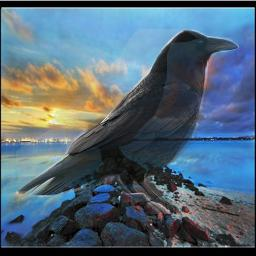Crow: (16, 29, 239, 214)
